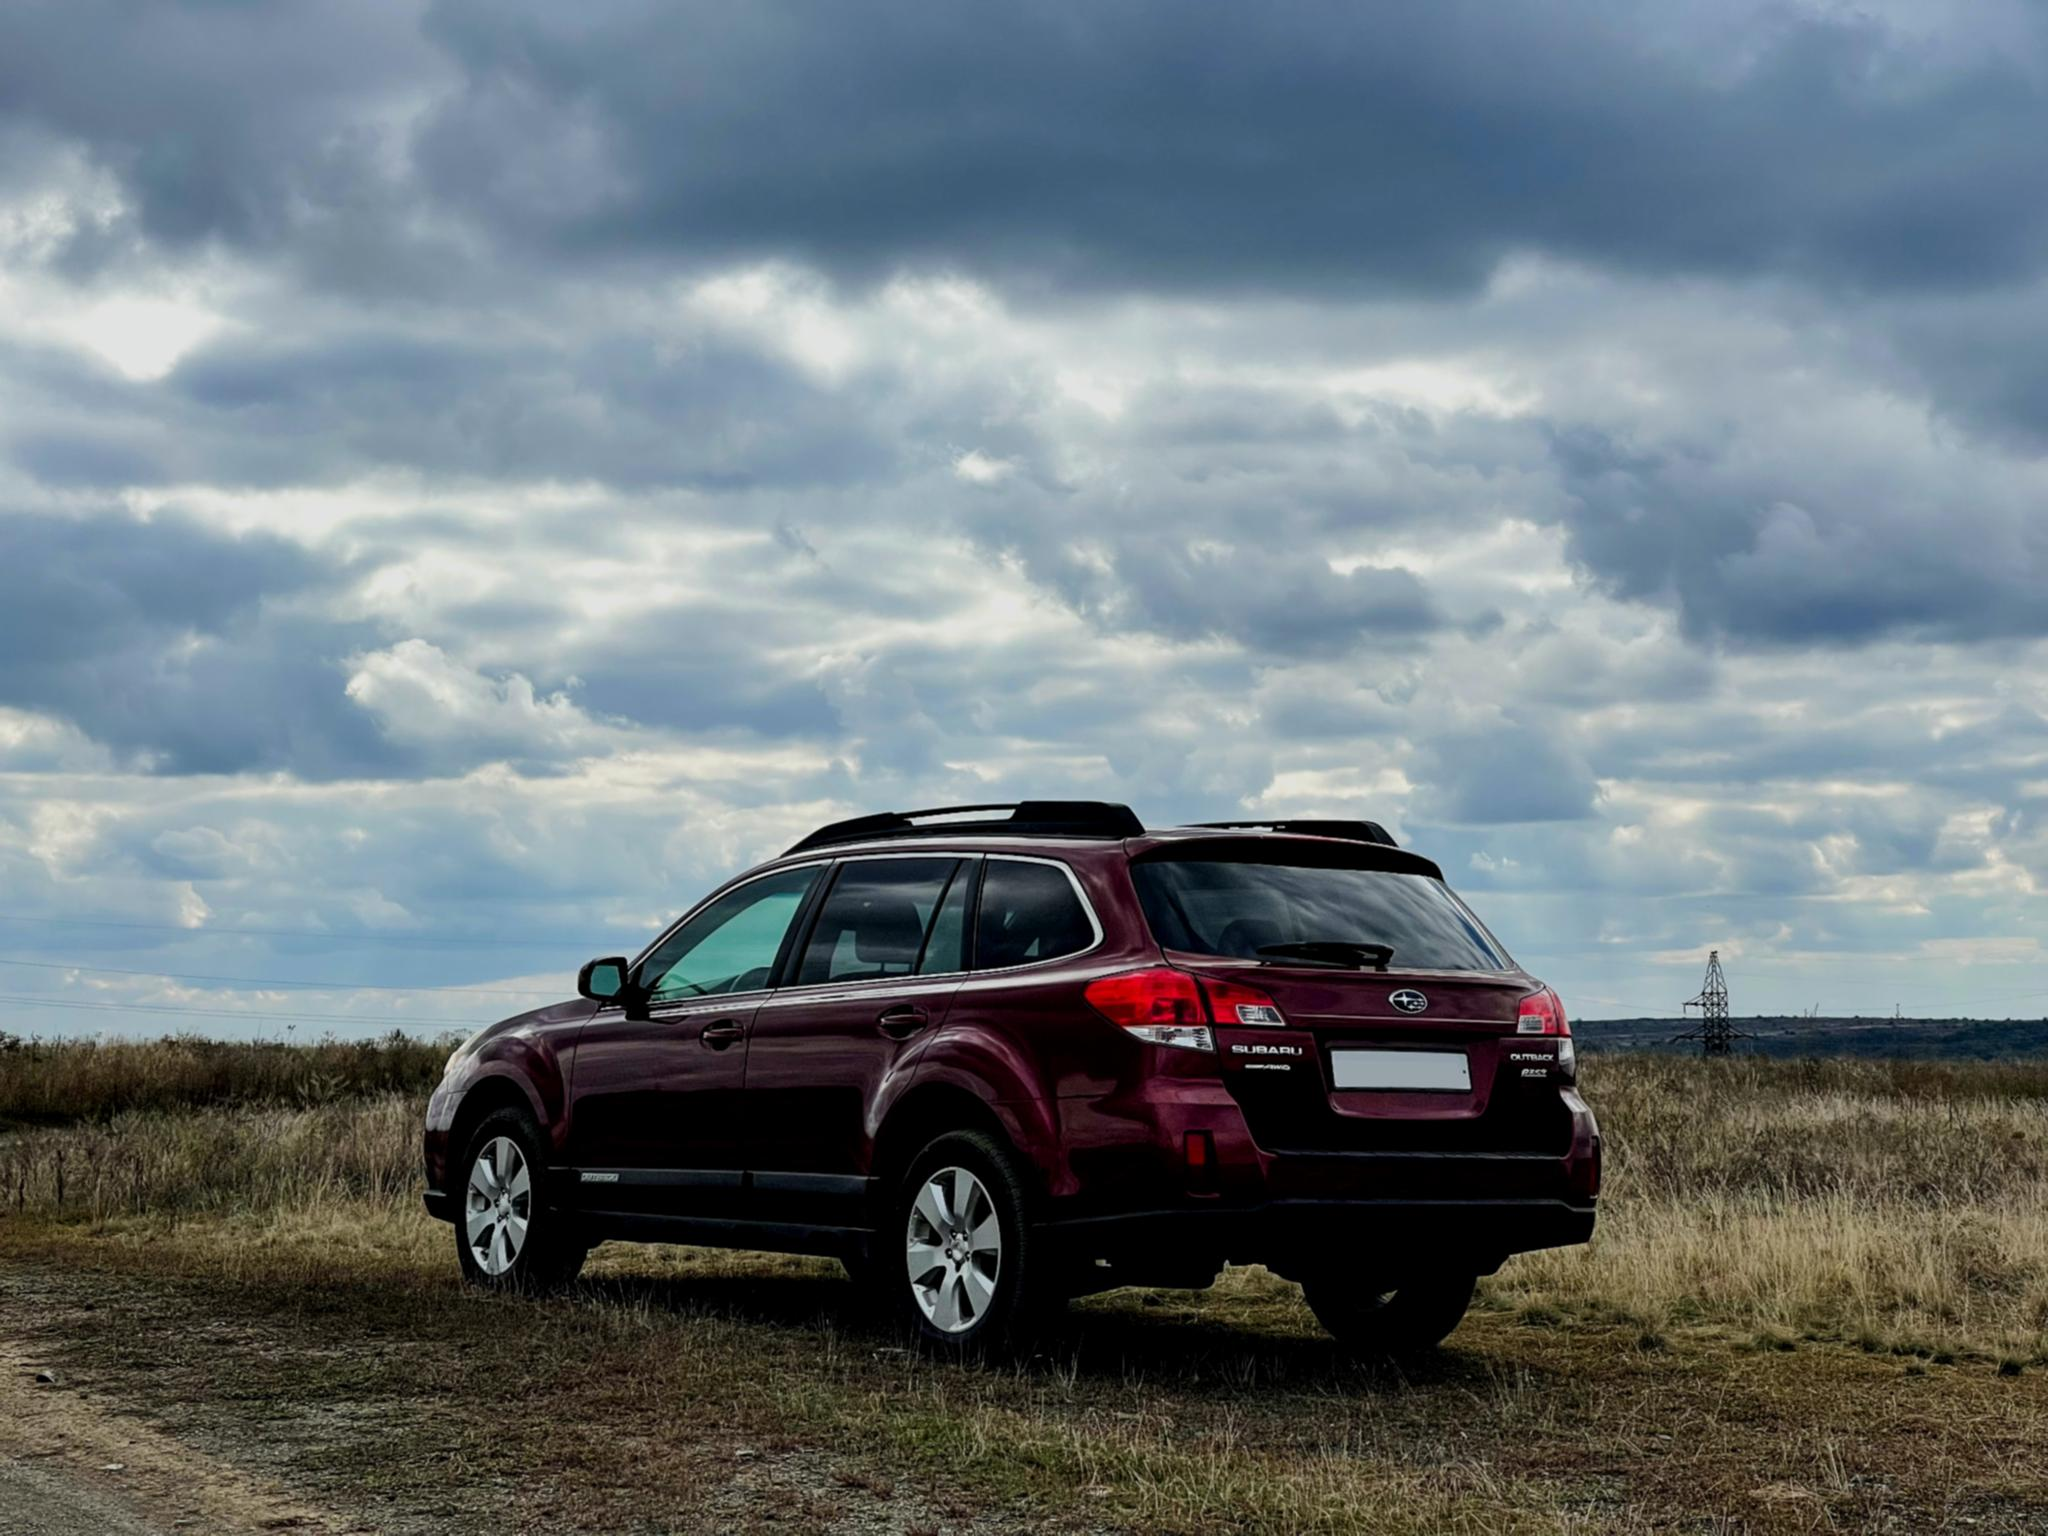subaru: (1376, 981, 1443, 1021)
